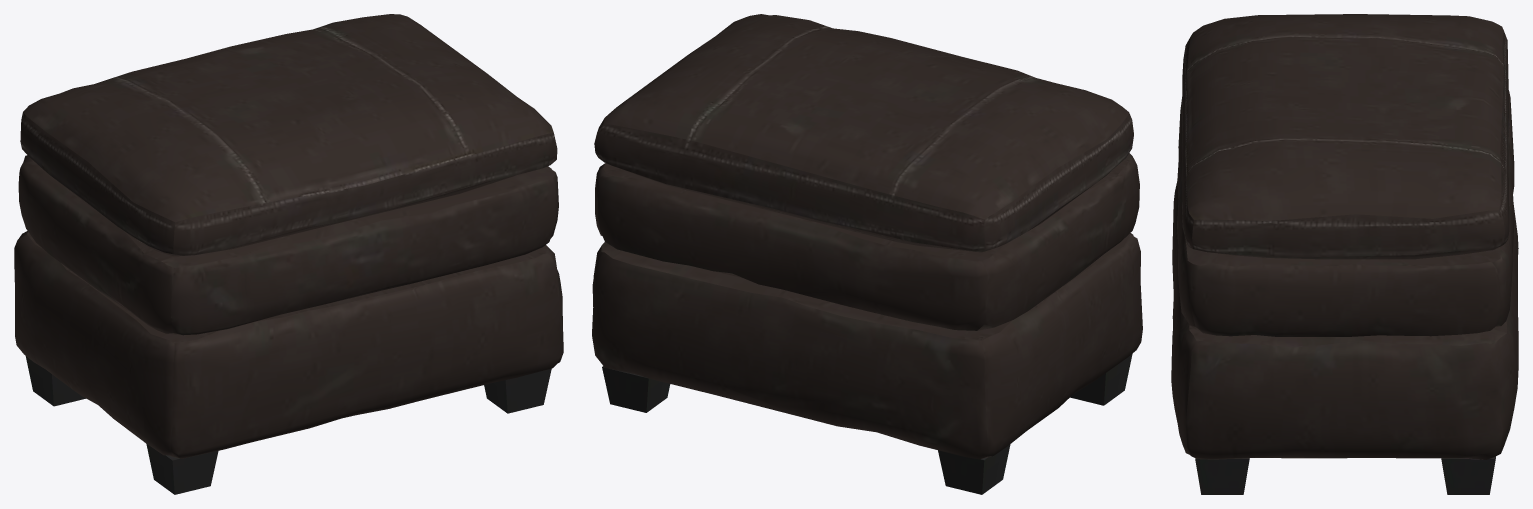
File: Ottoman_01.glb
3 views of the same model, side by side, from view 1: azimuth 30°, elevation 25°; view 2: azimuth 150°, elevation 25°; view 3: azimuth 270°, elevation 25° (orthographic).
Visible parts, largest first — view 1: Ottoman_01; view 2: Ottoman_01; view 3: Ottoman_01.
Boxes of the visible parts, x1,y1,x2,y2 form: Ottoman_01: (14,14,563,494); Ottoman_01: (592,14,1142,494); Ottoman_01: (1171,14,1518,494).
Size of the model in its own units: 0.8842 by 0.6243 by 0.6212.
1 material, 1 textured.
